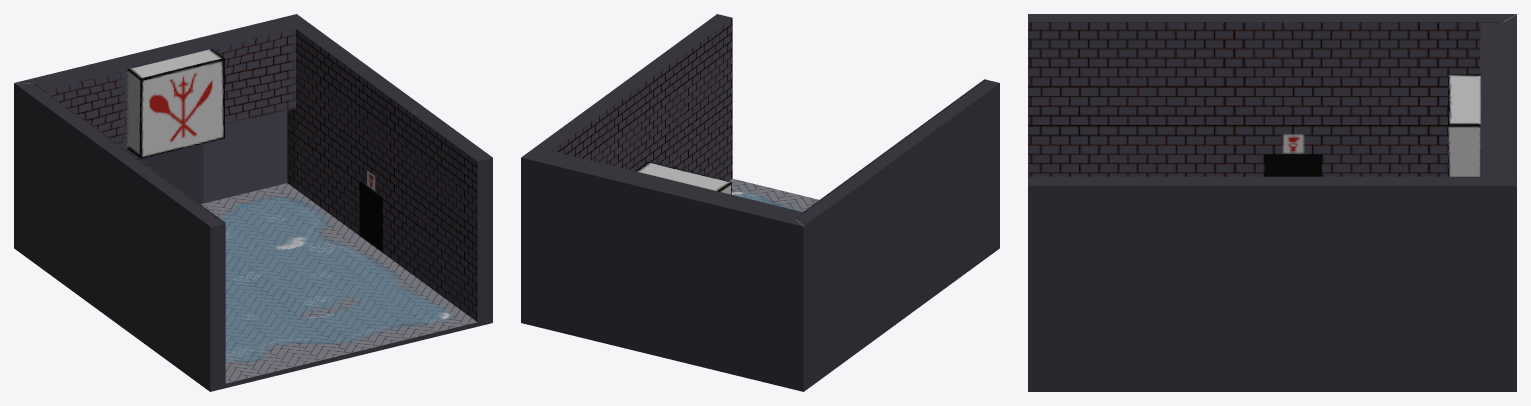
Rendered from Room.fbx.
3 views of the same model, side by side, from view 1: azimuth 30°, elevation 25°; view 2: azimuth 150°, elevation 25°; view 3: azimuth 270°, elevation 25° (orthographic). The views are drawn at different scales.
Visible parts, largest first — view 1: Room; view 2: Room; view 3: Room.
Boxes of the visible parts, x1,y1,x2,y2 form: Room: [14, 14, 492, 391]; Room: [521, 14, 999, 391]; Room: [1028, 14, 1516, 391].
Size of the model in its own units: 4581 by 2561 by 5507.
